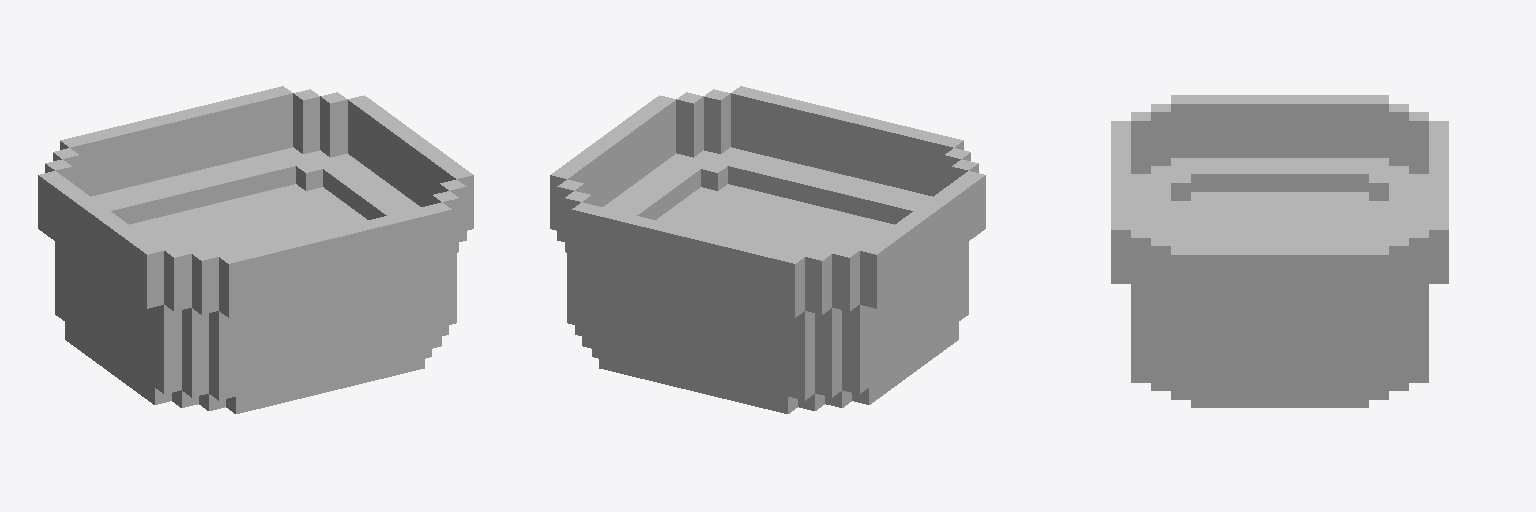
File: Vase.obj
3 views of the same model, side by side, from view 1: azimuth 30°, elevation 25°; view 2: azimuth 150°, elevation 25°; view 3: azimuth 270°, elevation 25° (orthographic).
Parts seen in each view (by area): view 1: object 1; view 2: object 1; view 3: object 1.
Boxes of the visible parts, <box> form: object 1: <box>38,86,473,413</box>; object 1: <box>550,86,985,413</box>; object 1: <box>1111,95,1448,407</box>.
Bounding box in the file's own units: 1.9 × 0.9 × 1.7.